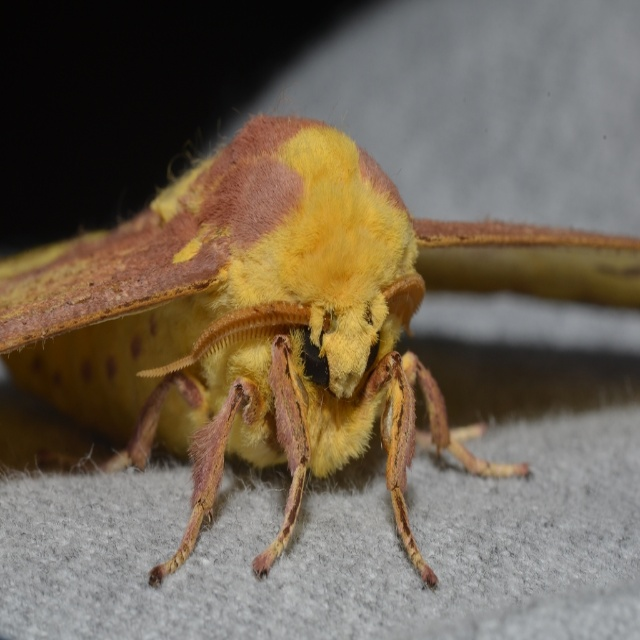Moths and butterflies: (0, 106, 640, 587)
